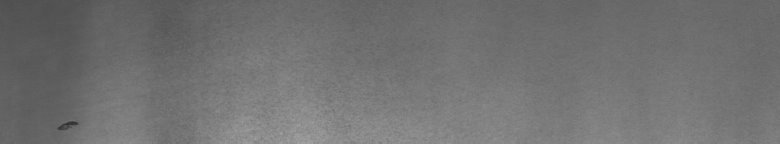fi: (57, 115, 79, 136)
